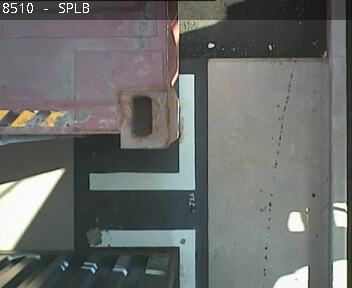groundmarker_1: (92, 74, 194, 288)
